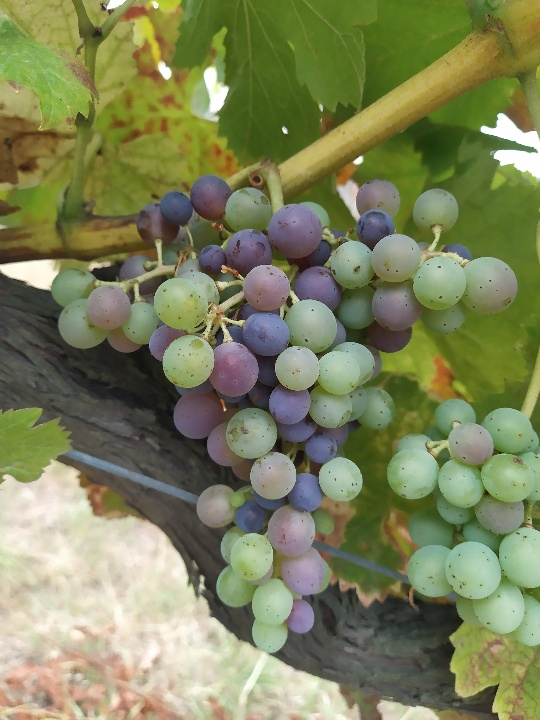grape: (45, 179, 519, 658)
